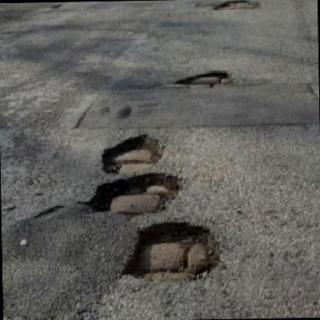pothole: (122, 224, 221, 278), (82, 173, 184, 215), (101, 135, 165, 175), (172, 71, 236, 88), (212, 0, 261, 10)
